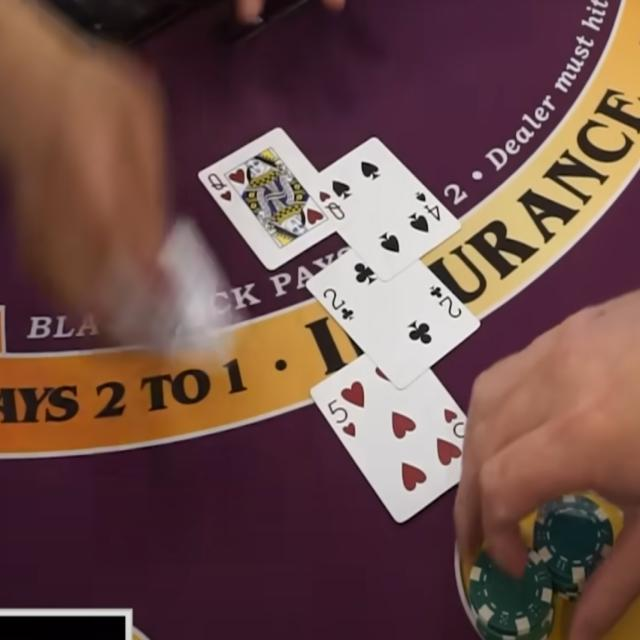2: (323, 286, 346, 311)
5: (324, 396, 350, 425)
Q: (206, 170, 228, 191)
